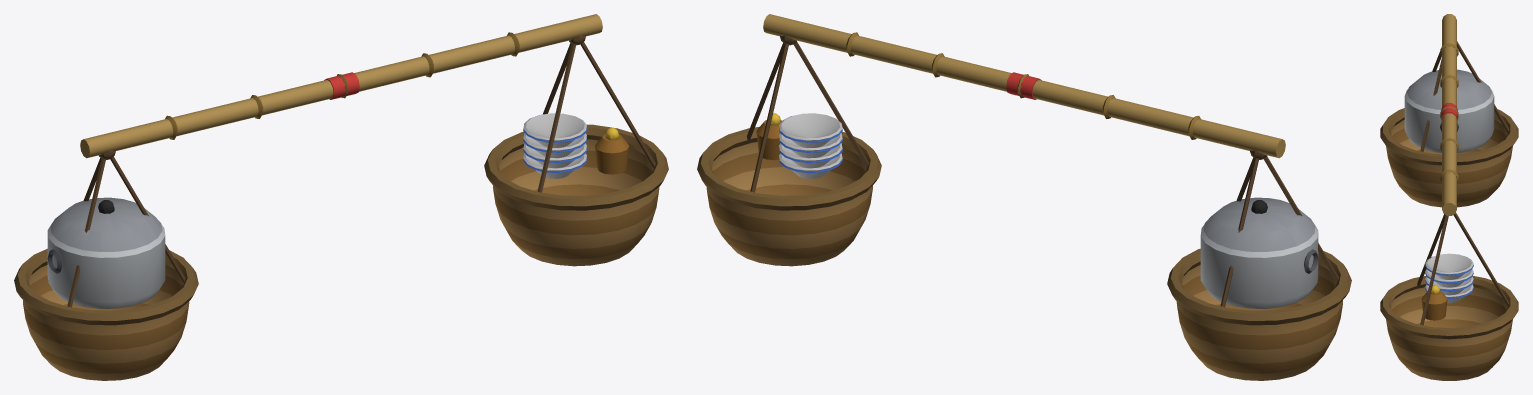
File: pp-pole-tauhu.glb
The picture shows the model from 3 angles, left to right: view 1: azimuth 30°, elevation 25°; view 2: azimuth 150°, elevation 25°; view 3: azimuth 270°, elevation 25°; orthographic projection. The views are drawn at different scales.
Bounding box in the file's own units: 2.95 × 1 × 0.7424.
